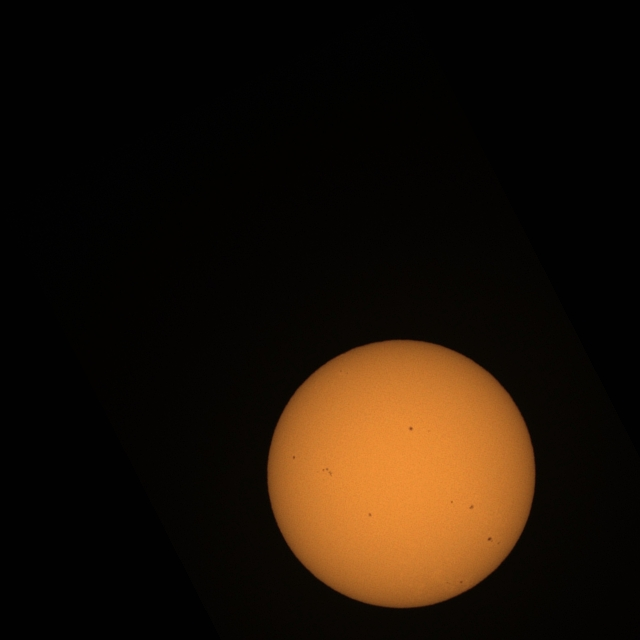sunspot: (487, 536, 500, 544), (319, 467, 331, 475), (326, 468, 332, 476), (368, 512, 373, 518), (408, 426, 414, 431), (469, 504, 474, 509), (488, 536, 492, 542), (450, 500, 454, 505), (292, 455, 296, 460)
